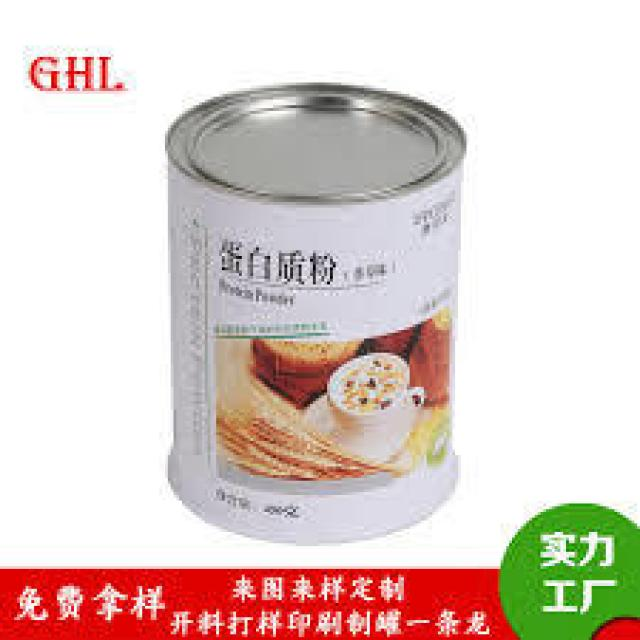-Recyclables - can-: (165, 86, 462, 546)
